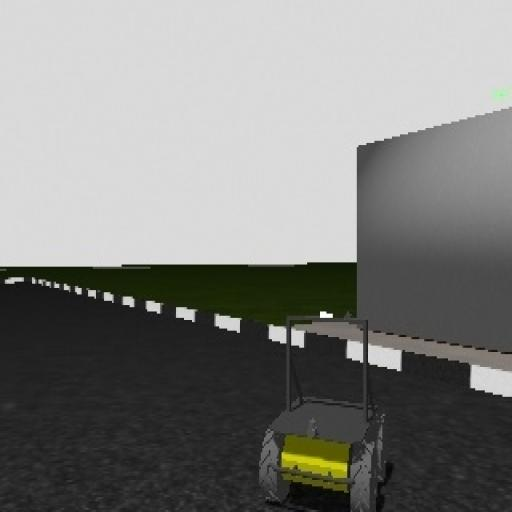huskya200: (260, 309, 387, 512)
